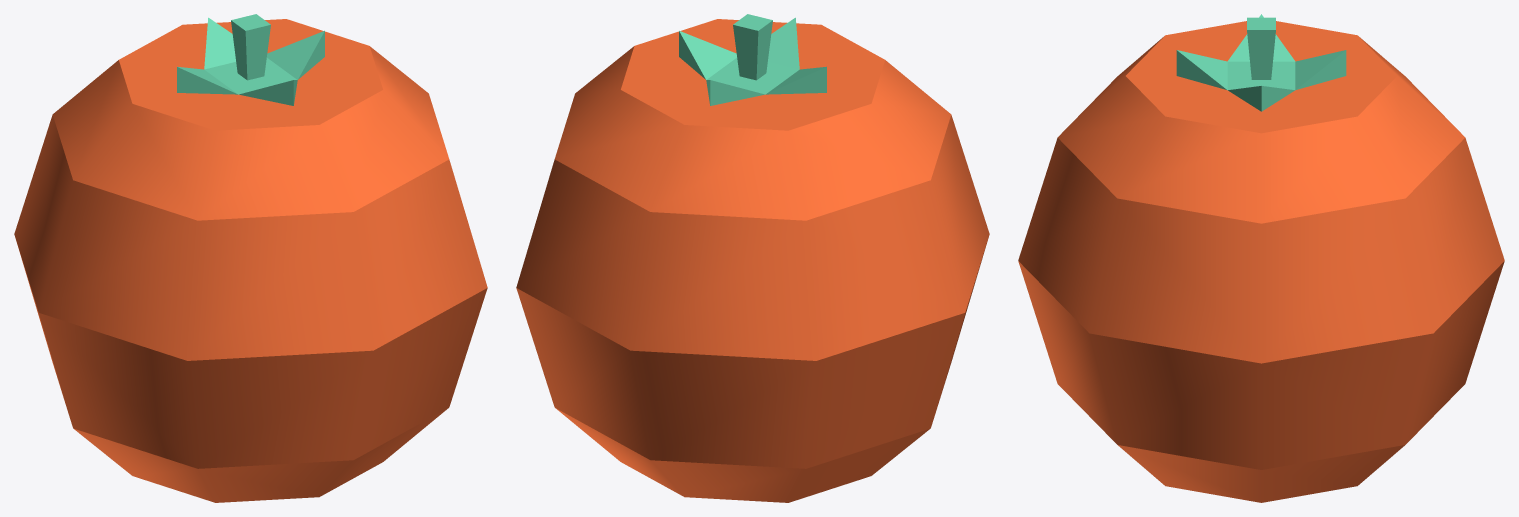
File: Orange.glb
3 renders of one model, left to right at view 1: azimuth 30°, elevation 25°; view 2: azimuth 150°, elevation 25°; view 3: azimuth 270°, elevation 25°, orthographic.
Visible parts, largest first — view 1: orange; view 2: orange; view 3: orange.
Part boxes in pixels (left/top/right/bottom): orange: left=14, top=14, right=487, bottom=502; orange: left=516, top=14, right=989, bottom=502; orange: left=1018, top=14, right=1504, bottom=502.
Bounding box in the file's own units: 0.1697 × 0.1622 × 0.1697.
